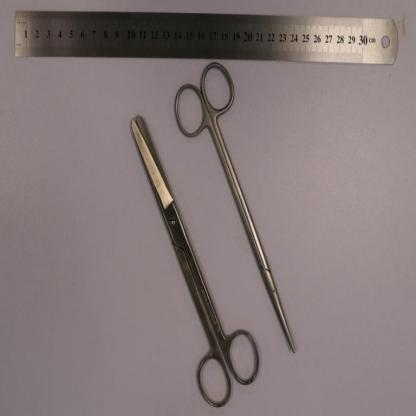7 Metzenbaum Scissors: (174, 60, 296, 354)
Dressing Scissors: (130, 112, 260, 409)
